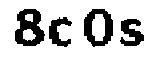0: (83, 4, 116, 52)
8: (9, 7, 44, 50)
c: (45, 15, 76, 50)
s: (117, 17, 146, 51)
